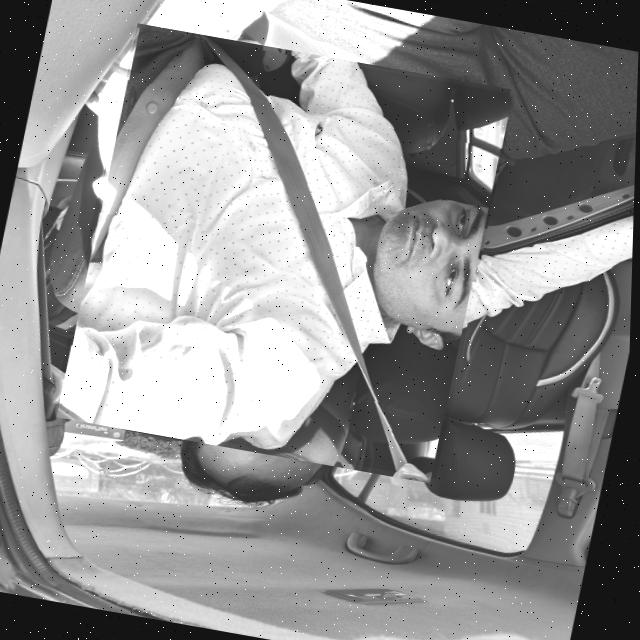seatbelt: (53, 26, 517, 479)
